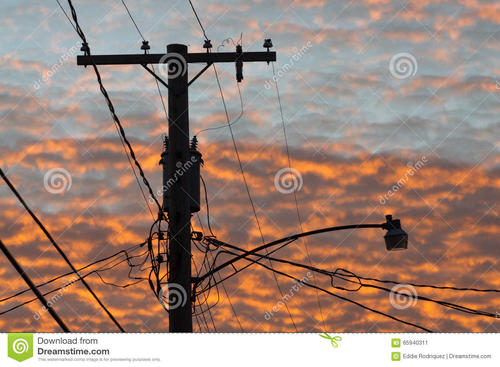utility_pole: (66, 28, 288, 122)
